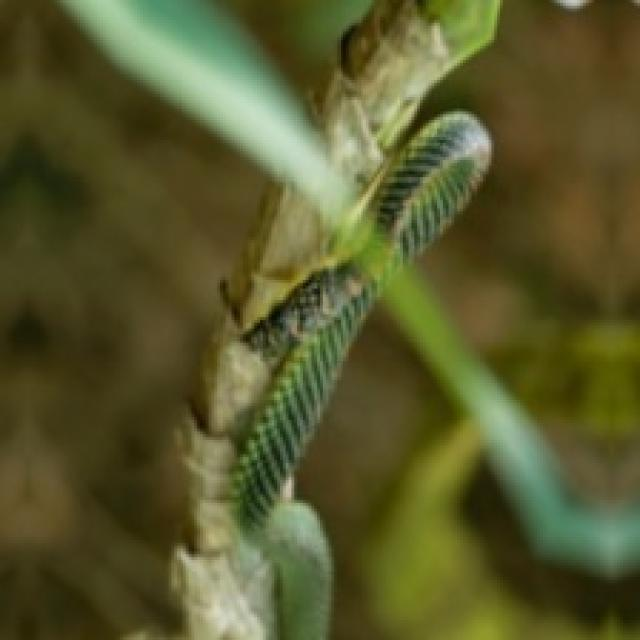paradise tree snake: (229, 111, 489, 526)
